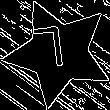L_S: (40, 26, 77, 80)
